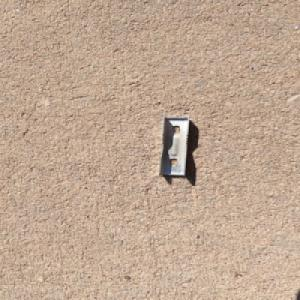ClampPart: (157, 114, 192, 177)
